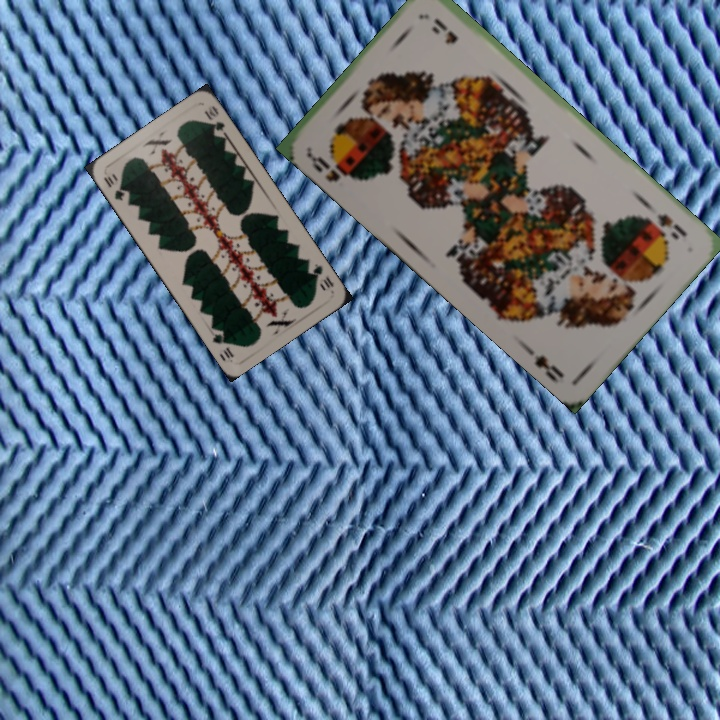G10: (307, 259, 337, 293), (100, 172, 128, 203)
SO: (303, 144, 360, 185), (653, 209, 689, 243)
